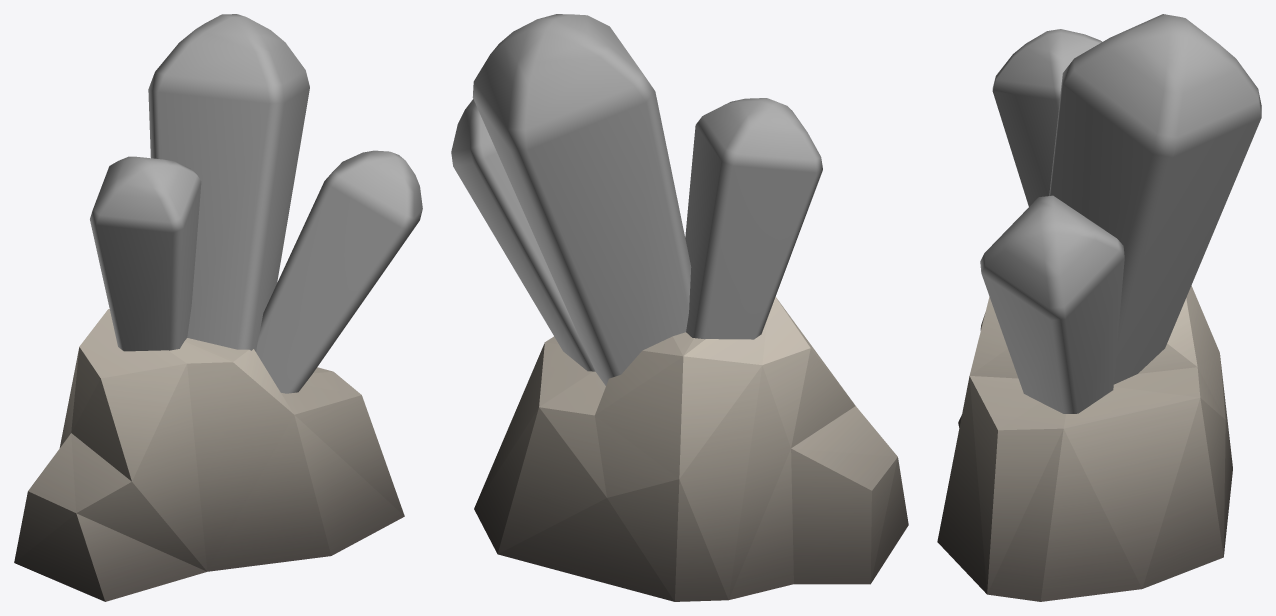
The model's file is SM_Crystal_Node_4.fbx.
The picture shows the model from 3 angles, left to right: view 1: azimuth 30°, elevation 25°; view 2: azimuth 150°, elevation 25°; view 3: azimuth 270°, elevation 25°; orthographic projection. The views are drawn at different scales.
Parts seen in each view (by area): view 1: Crystal_Node_4; view 2: Crystal_Node_4; view 3: Crystal_Node_4.
Part boxes in pixels (x1,y1,x2,y2): Crystal_Node_4: (14,14,422,601); Crystal_Node_4: (451,14,908,601); Crystal_Node_4: (937,14,1261,601).
Size of the model in its own units: 232 by 265 by 150.
Materials: 2 (1 with a texture image).
